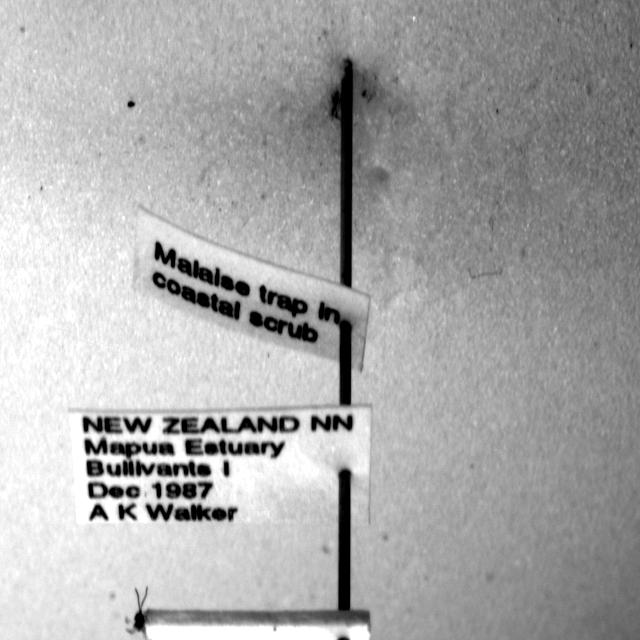typed_label: (134, 208, 370, 369), (70, 405, 371, 523)
